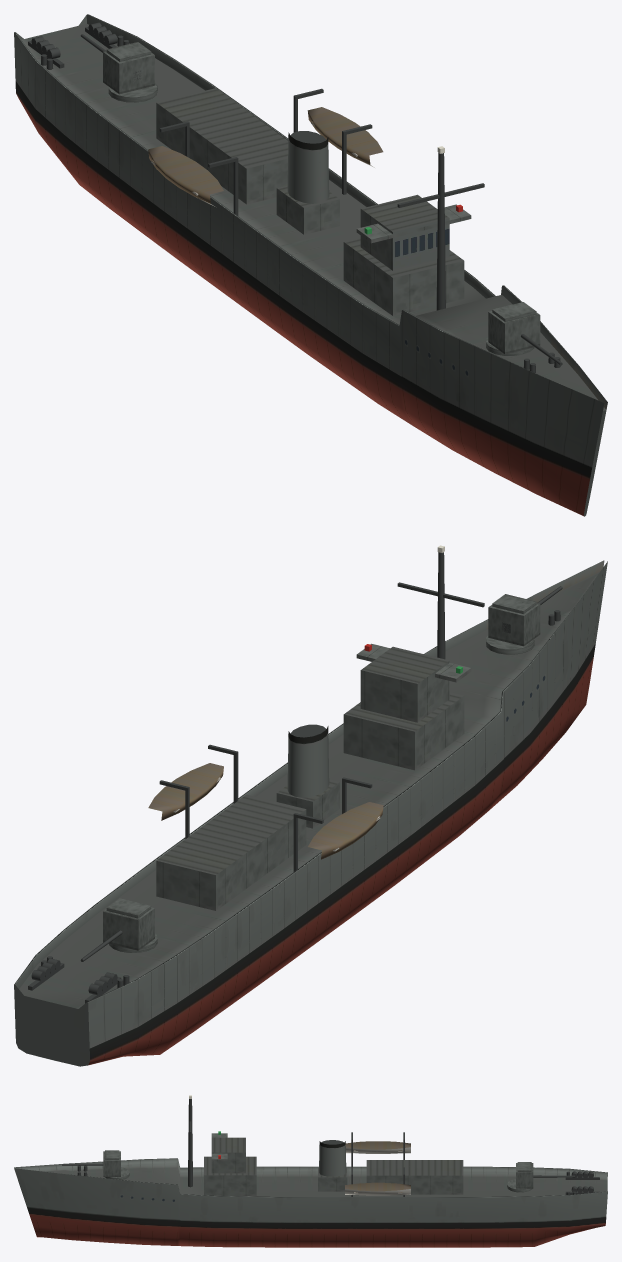
The model's file is escort.glb.
The picture shows the model from 3 angles, top to bottom: view 1: azimuth 30°, elevation 25°; view 2: azimuth 150°, elevation 25°; view 3: azimuth 270°, elevation 25°; orthographic projection. The views are drawn at different scales.
Parts seen in each view (by area): view 1: hull, turret_2, turret_1, boat_right, boat_left; view 2: hull, turret_1, turret_2, boat_right, boat_left; view 3: hull, boat_left, boat_right, turret_2, turret_1.
Boxes of the visible parts, x1,y1,x2,y2 form: hull: (14,14,607,516); turret_2: (103,42,157,102); turret_1: (486,302,540,355); boat_right: (148,146,223,206); boat_left: (307,107,383,167); hull: (14,545,607,1066); turret_1: (486,594,540,654); turret_2: (103,898,157,952); boat_right: (308,802,383,859); boat_left: (148,763,223,820); hull: (14,1095,607,1247); boat_left: (345,1182,410,1195); boat_right: (345,1141,410,1153); turret_2: (507,1162,533,1192); turret_1: (103,1150,129,1179).
Size of the model in its own units: 13.45 by 17.72 by 67.5.
5 materials, 5 textured.
